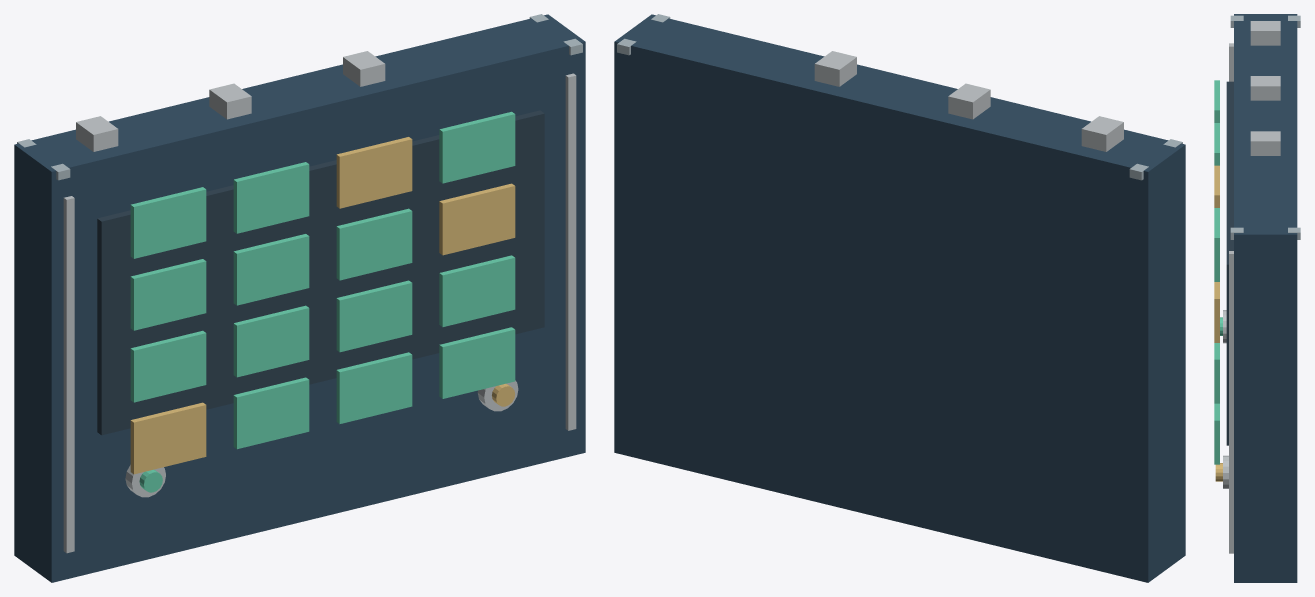
The model's file is 44_L75_WaferDoseUniformityAnalyzer.glb.
3 views of the same model, side by side, from view 1: azimuth 30°, elevation 25°; view 2: azimuth 150°, elevation 25°; view 3: azimuth 270°, elevation 25° (orthographic). The views are drawn at different scales.
Visible parts, largest first — view 1: WaferDoseUniformityAnalyzer_Node_0000, WaferDoseUniformityAnalyzer_Node_0007, WaferDoseUniformityAnalyzer_Node_0027, WaferDoseUniformityAnalyzer_Node_0032, WaferDoseUniformityAnalyzer_Node_0034, WaferDoseUniformityAnalyzer_Node_0035, WaferDoseUniformityAnalyzer_Node_0024, WaferDoseUniformityAnalyzer_Node_0025, WaferDoseUniformityAnalyzer_Node_0026, WaferDoseUniformityAnalyzer_Node_0033, WaferDoseUniformityAnalyzer_Node_0029, WaferDoseUniformityAnalyzer_Node_0030 (+11 smaller); view 2: WaferDoseUniformityAnalyzer_Node_0000, WaferDoseUniformityAnalyzer_Node_0022, WaferDoseUniformityAnalyzer_Node_0021, WaferDoseUniformityAnalyzer_Node_0023; view 3: WaferDoseUniformityAnalyzer_Node_0000, WaferDoseUniformityAnalyzer_Node_0007, WaferDoseUniformityAnalyzer_Node_0006, WaferDoseUniformityAnalyzer_Node_0021, WaferDoseUniformityAnalyzer_Node_0022, WaferDoseUniformityAnalyzer_Node_0023, WaferDoseUniformityAnalyzer_Node_0039, WaferDoseUniformityAnalyzer_Node_0036, WaferDoseUniformityAnalyzer_Node_0037, WaferDoseUniformityAnalyzer_Node_0038, WaferDoseUniformityAnalyzer_Node_0027, WaferDoseUniformityAnalyzer_Node_0031 (+4 smaller).
Boxes of the visible parts, x1=… form: WaferDoseUniformityAnalyzer_Node_0000: x1=14, y1=14, x2=585, y2=582; WaferDoseUniformityAnalyzer_Node_0007: x1=97, y1=110, x2=544, y2=435; WaferDoseUniformityAnalyzer_Node_0027: x1=130, y1=187, x2=206, y2=258; WaferDoseUniformityAnalyzer_Node_0032: x1=336, y1=352, x2=412, y2=423; WaferDoseUniformityAnalyzer_Node_0034: x1=336, y1=208, x2=412, y2=280; WaferDoseUniformityAnalyzer_Node_0035: x1=336, y1=137, x2=412, y2=208; WaferDoseUniformityAnalyzer_Node_0024: x1=130, y1=402, x2=206, y2=474; WaferDoseUniformityAnalyzer_Node_0025: x1=130, y1=330, x2=206, y2=402; WaferDoseUniformityAnalyzer_Node_0026: x1=130, y1=259, x2=206, y2=330; WaferDoseUniformityAnalyzer_Node_0033: x1=336, y1=280, x2=412, y2=352; WaferDoseUniformityAnalyzer_Node_0029: x1=233, y1=305, x2=309, y2=377; WaferDoseUniformityAnalyzer_Node_0030: x1=233, y1=234, x2=309, y2=305; WaferDoseUniformityAnalyzer_Node_0000: x1=614, y1=14, x2=1185, y2=582; WaferDoseUniformityAnalyzer_Node_0022: x1=948, y1=83, x2=990, y2=119; WaferDoseUniformityAnalyzer_Node_0021: x1=1081, y1=116, x2=1123, y2=151; WaferDoseUniformityAnalyzer_Node_0023: x1=814, y1=51, x2=856, y2=86; WaferDoseUniformityAnalyzer_Node_0000: x1=1234, y1=14, x2=1297, y2=582; WaferDoseUniformityAnalyzer_Node_0007: x1=1226, y1=81, x2=1233, y2=445; WaferDoseUniformityAnalyzer_Node_0006: x1=1229, y1=251, x2=1233, y2=553; WaferDoseUniformityAnalyzer_Node_0021: x1=1250, y1=21, x2=1280, y2=45; WaferDoseUniformityAnalyzer_Node_0022: x1=1250, y1=76, x2=1280, y2=100; WaferDoseUniformityAnalyzer_Node_0023: x1=1250, y1=131, x2=1280, y2=155; WaferDoseUniformityAnalyzer_Node_0039: x1=1214, y1=208, x2=1219, y2=281; WaferDoseUniformityAnalyzer_Node_0036: x1=1214, y1=403, x2=1219, y2=464; WaferDoseUniformityAnalyzer_Node_0037: x1=1214, y1=343, x2=1219, y2=403; WaferDoseUniformityAnalyzer_Node_0038: x1=1214, y1=282, x2=1219, y2=342; WaferDoseUniformityAnalyzer_Node_0027: x1=1214, y1=80, x2=1219, y2=122; WaferDoseUniformityAnalyzer_Node_0031: x1=1214, y1=123, x2=1219, y2=165.
Size of the model in its own units: 1.4 by 1.07 by 0.231.
